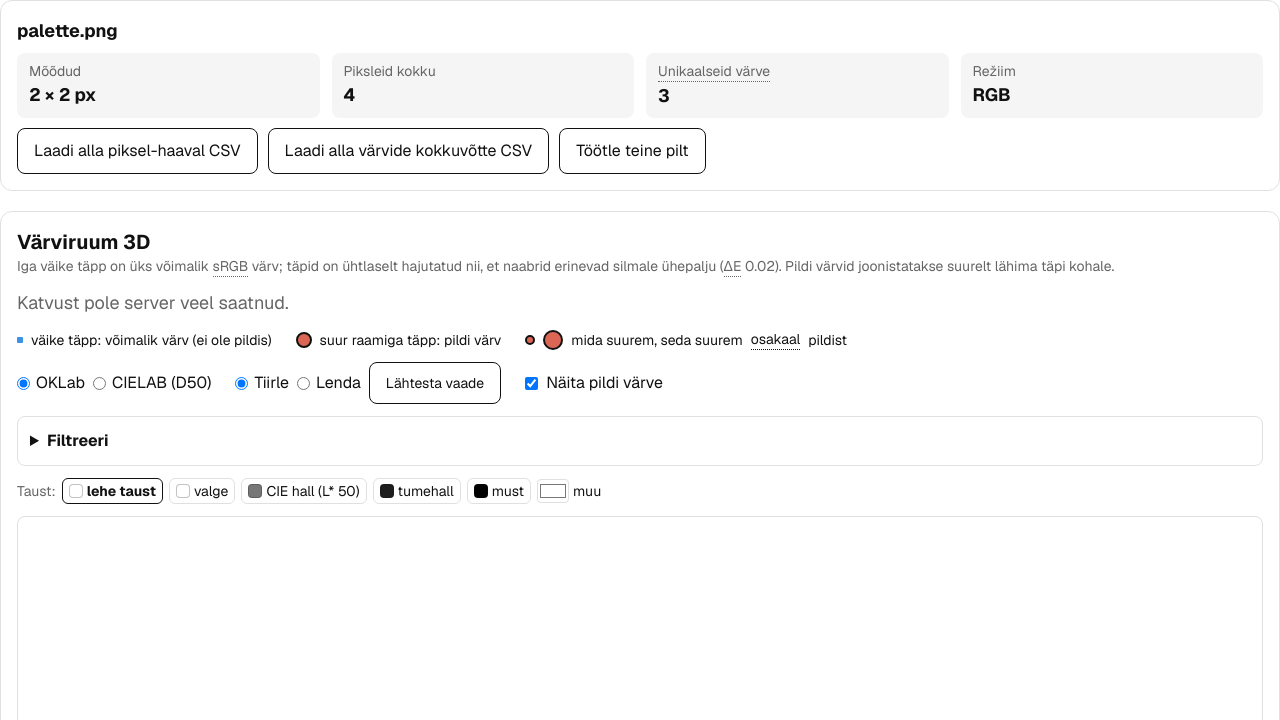
Test case: ResultsView › says so when a CSV file cannot be found
Click the button "Laadi alla värvide kokkuvõtte CSV" at point(408, 151), box top-left (268, 128), bottom-right (549, 174)
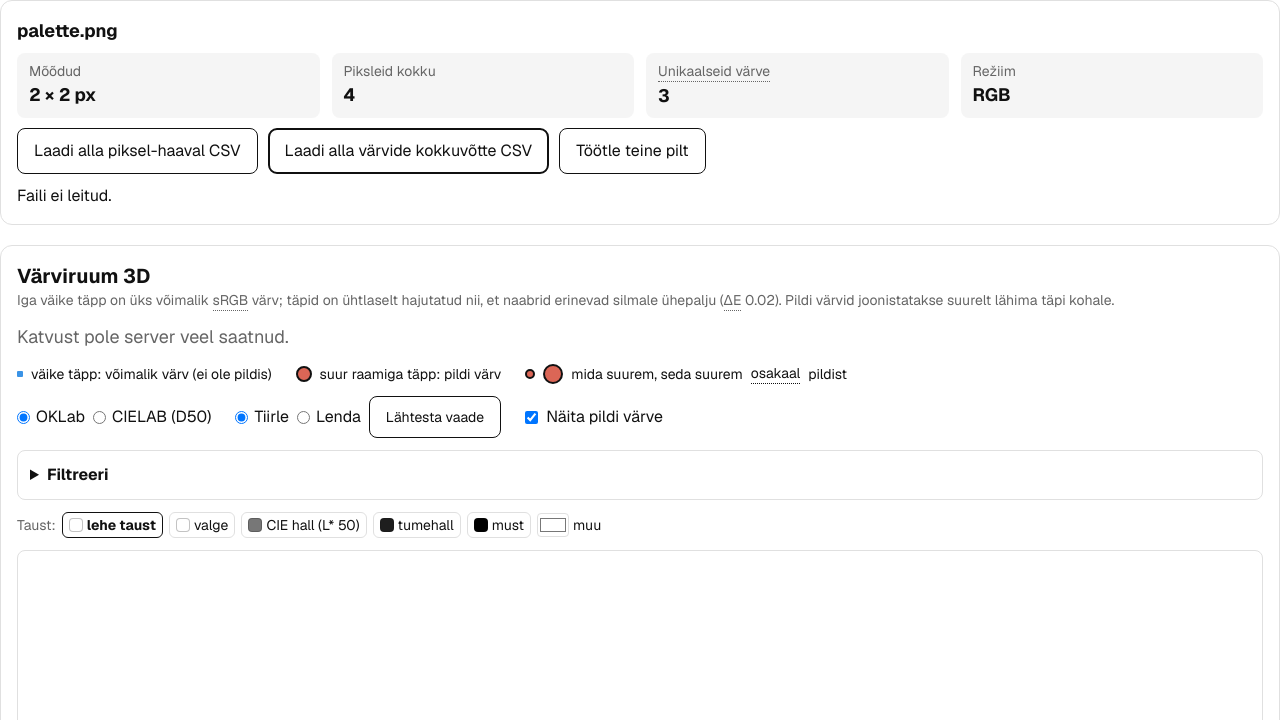
Result: the message "Faili ei leitud." is shown at top-left (17, 185), bottom-right (112, 206)
